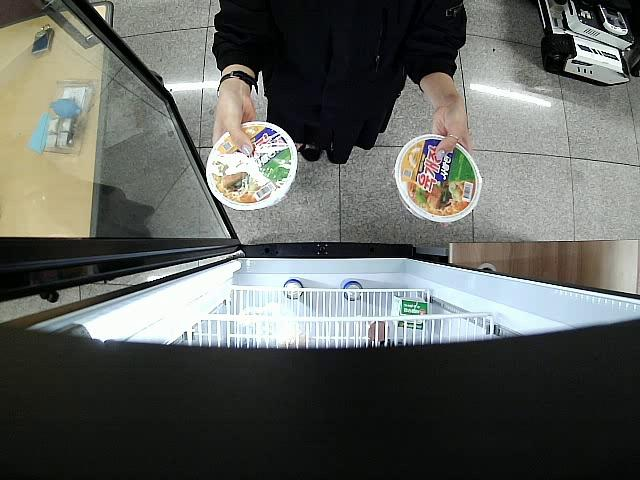00_hand: (212, 94, 258, 156), (430, 97, 468, 159)
09_yukGaeJang: (206, 121, 299, 210), (394, 134, 482, 224)
